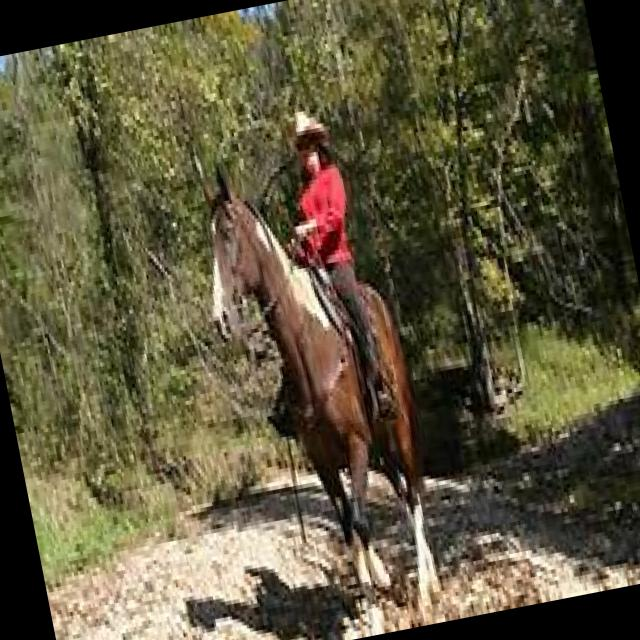animal: (183, 126, 460, 640)
